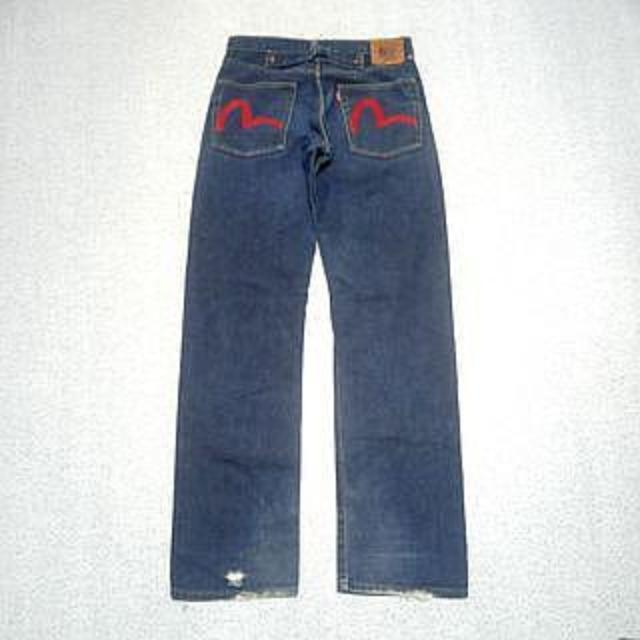TROUSER: (162, 25, 493, 608)
